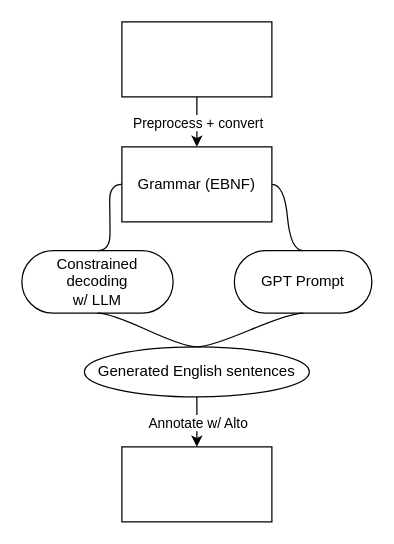
This 394x544 diagram has some shape labels left out. Here are the shapes that lost their labels. From the top down, the centre of each, then its label:
At (196,59): "Grammar (IRTG)".
At (196,484): "Dataset with sentence-representation pairs".
